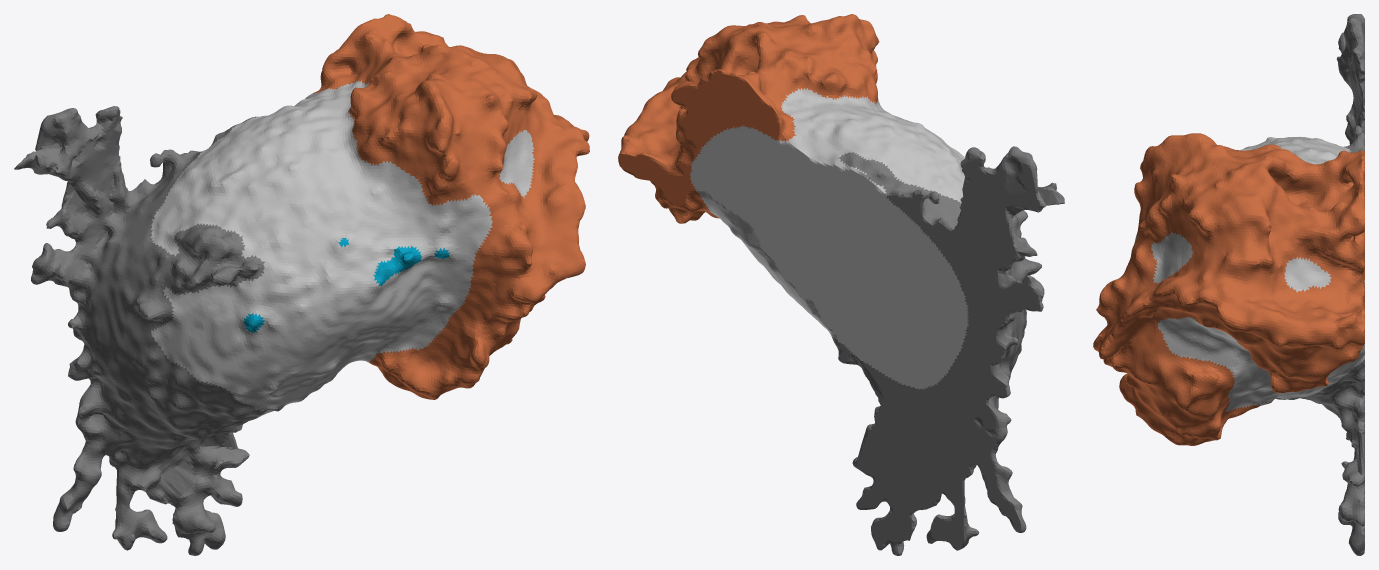
3 renders of one model, left to right at view 1: azimuth 30°, elevation 25°; view 2: azimuth 150°, elevation 25°; view 3: azimuth 270°, elevation 25°, orthographic. The views are drawn at different scales.
Bounding box in the file's own units: 155 × 145 × 73.43.
